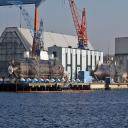submarine: (10, 58, 65, 79), (95, 59, 126, 82)
